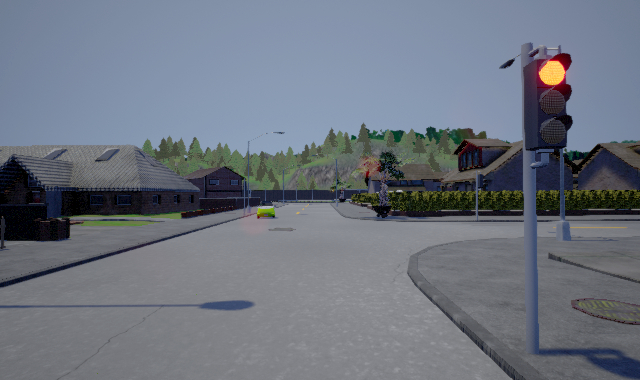traffic_light: (523, 52, 573, 151)
vehicle: (256, 200, 276, 219)
